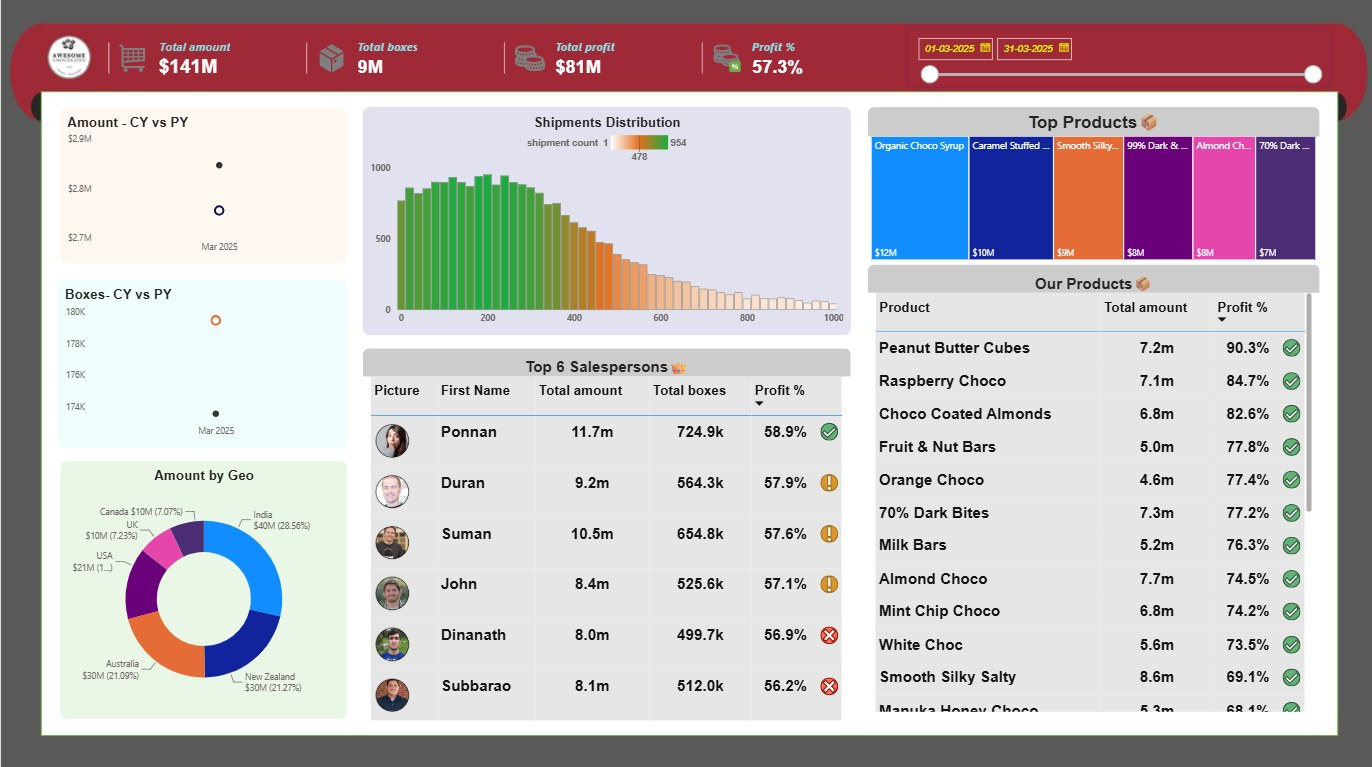

Layout of this report page (visuals, bound fields, positions):
{"tool":"powerbi","page":{"name":"Page 8","canvas":[1920,1080],"ordinal":0},"visuals":[{"type":"lineChart","title":"Amount - CY vs PY","fields":{"Category":["calendar.Start of Month"],"Y":["shipments.Total amount","shipments.Total Amount(last year)"]},"box":[81.7,150,401.7,220],"z":0},{"type":"lineChart","title":"Boxes- CY vs PY","fields":{"Category":["calendar.Start of Month"],"Y":["shipments.Total boxes","shipments.Total boxes(last year)"]},"box":[78.3,390,405,236.7],"z":1000},{"type":"donutChart","title":"Amount by Geo","fields":{"Category":["locations.Geo"],"Y":["shipments.Total amount"]},"box":[81.7,643.3,401.7,361.7],"z":2000},{"type":"clusteredColumnChart","title":"Shipments Distribution","fields":{"Category":["shipments.Boxes (bins)"],"Y":["shipments.shipment count"]},"box":[504,150,682,320],"z":3000},{"type":"tableEx","title":"Top 6 Salespersons👑","fields":{"Values":["people.Picture","people.First Name","shipments.Total amount","shipments.Total boxes","shipments.Profit %"]},"box":[504,486,682,536],"z":4000},{"type":"treemap","title":"Top Products📦","fields":{"Group":["products.Product"],"Values":["shipments.Total amount"]},"box":[1208,150,632,220],"z":5000},{"type":"tableEx","title":"Our Products📦","fields":{"Values":["products.Product","shipments.Total amount","shipments.Profit %"]},"box":[1208,370,632,636],"z":6000},{"type":"cardVisual","fields":{"Data":["shipments.Total amount","shipments.Total boxes","shipments.Total profit","shipments.Profit %"]},"box":[133.3,41.7,1131.7,81.7],"z":7000},{"type":"slicer","title":"Time Line","fields":{"Values":["calendar.cal_date"]},"box":[1265,41.2,590,81.2],"z":7001}]}

Visuals, with their boxes in screenshot pixels (x1, y1, x2, y2), scaled from the page's 1920x1080 canvas onto the 1372x767 screenshot:
"Amount - CY vs PY" lineChart: 58/107/345/263
"Boxes- CY vs PY" lineChart: 56/277/345/445
"Amount by Geo" donutChart: 58/457/345/714
"Shipments Distribution" clusteredColumnChart: 360/107/847/334
"Top 6 Salespersons👑" tableEx: 360/345/847/726
"Top Products📦" treemap: 863/107/1315/263
"Our Products📦" tableEx: 863/263/1315/714
cardVisual - shipments.Total amount x shipments.Total boxes: 95/30/904/88
"Time Line" slicer: 904/29/1326/87
